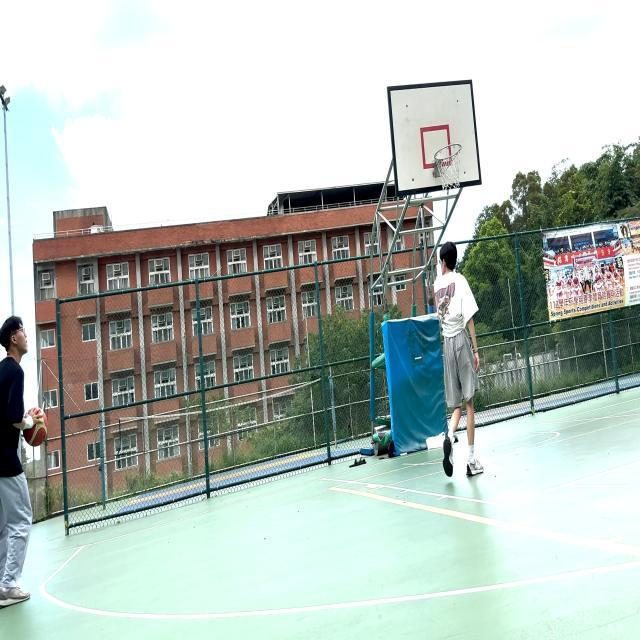ball: (24, 409, 48, 447)
hoop: (432, 142, 469, 165)
